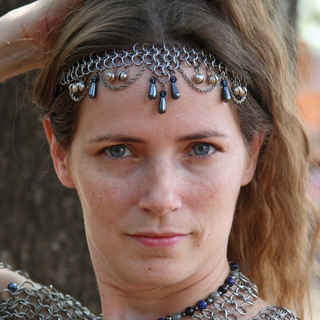eye: (92, 140, 143, 164), (179, 138, 225, 163)
